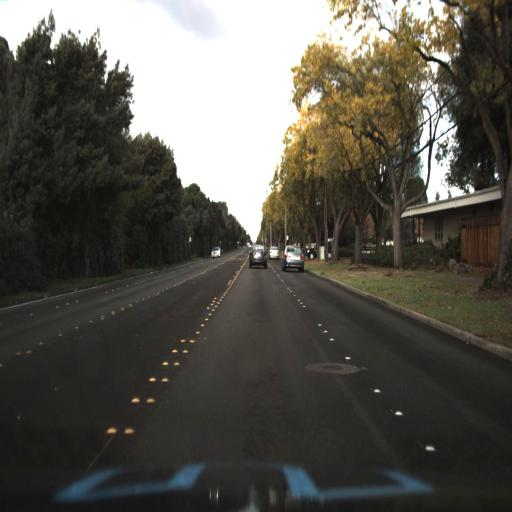car: (306, 236, 339, 270), (245, 237, 272, 276), (279, 241, 307, 276), (209, 241, 225, 262), (268, 241, 280, 261)
